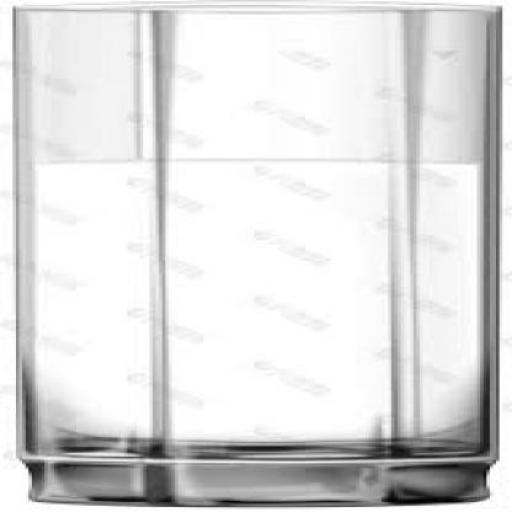glass: (0, 1, 506, 505)
